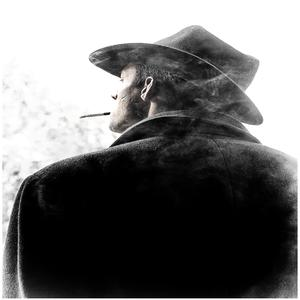cigarette: (79, 111, 113, 121)
